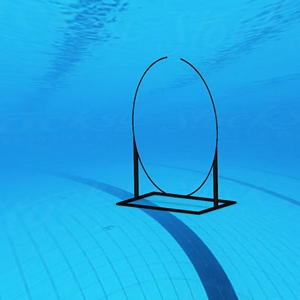circle: (114, 55, 242, 219)
